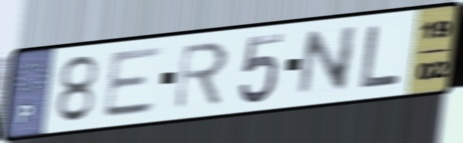5: (236, 30, 288, 104)
8: (55, 53, 101, 123)
E: (100, 43, 168, 121)
L: (358, 22, 405, 92)
N: (293, 22, 361, 101)
R: (172, 39, 232, 113)
